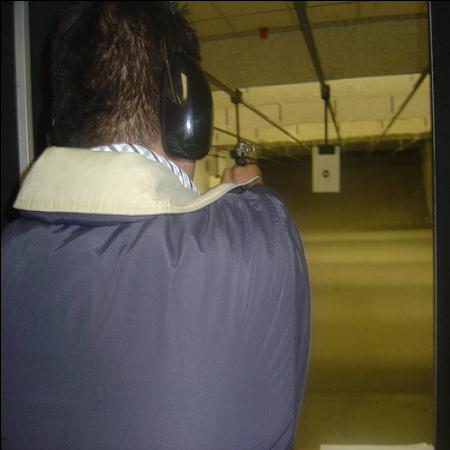Pistol: (227, 137, 250, 162)
